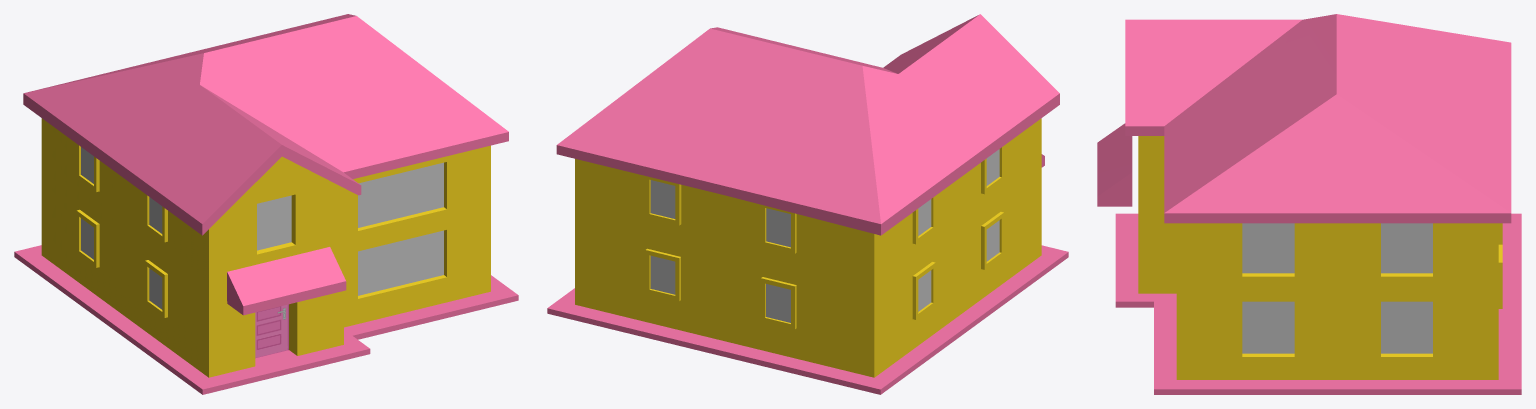
Rendered from Town_Bld_House_F.FBX.
3 views of the same model, side by side, from view 1: azimuth 30°, elevation 25°; view 2: azimuth 150°, elevation 25°; view 3: azimuth 270°, elevation 25° (orthographic). The views are drawn at different scales.
Visible parts, largest first — view 1: Town_Bld_House_F; view 2: Town_Bld_House_F; view 3: Town_Bld_House_F.
Part boxes in pixels (x1,y1,x2,y2): Town_Bld_House_F: (14,14,518,394); Town_Bld_House_F: (547,14,1068,394); Town_Bld_House_F: (1097,14,1521,394).
Bounding box in the file's own units: 633 × 438 × 647.
